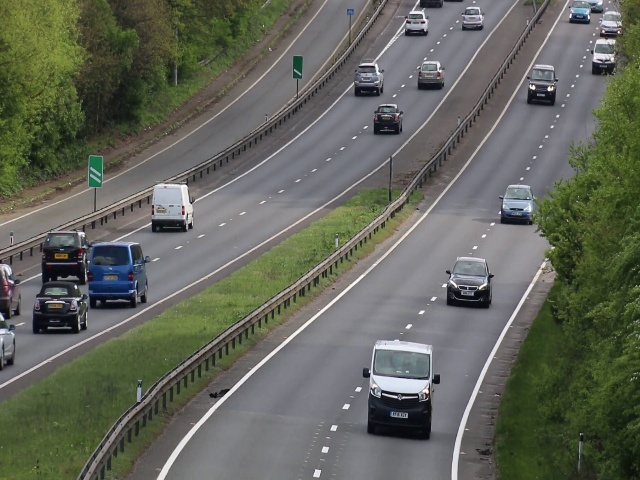car: (365, 340, 435, 443), (88, 243, 149, 304), (35, 284, 89, 333), (446, 254, 493, 310), (41, 231, 89, 285), (150, 182, 194, 231), (500, 183, 533, 223), (1, 259, 23, 317), (528, 61, 556, 106), (353, 62, 385, 97), (373, 103, 404, 136), (416, 61, 446, 92), (595, 38, 616, 73), (1, 323, 17, 364), (404, 9, 429, 35), (460, 6, 485, 30), (569, 2, 591, 25), (600, 11, 621, 34)
